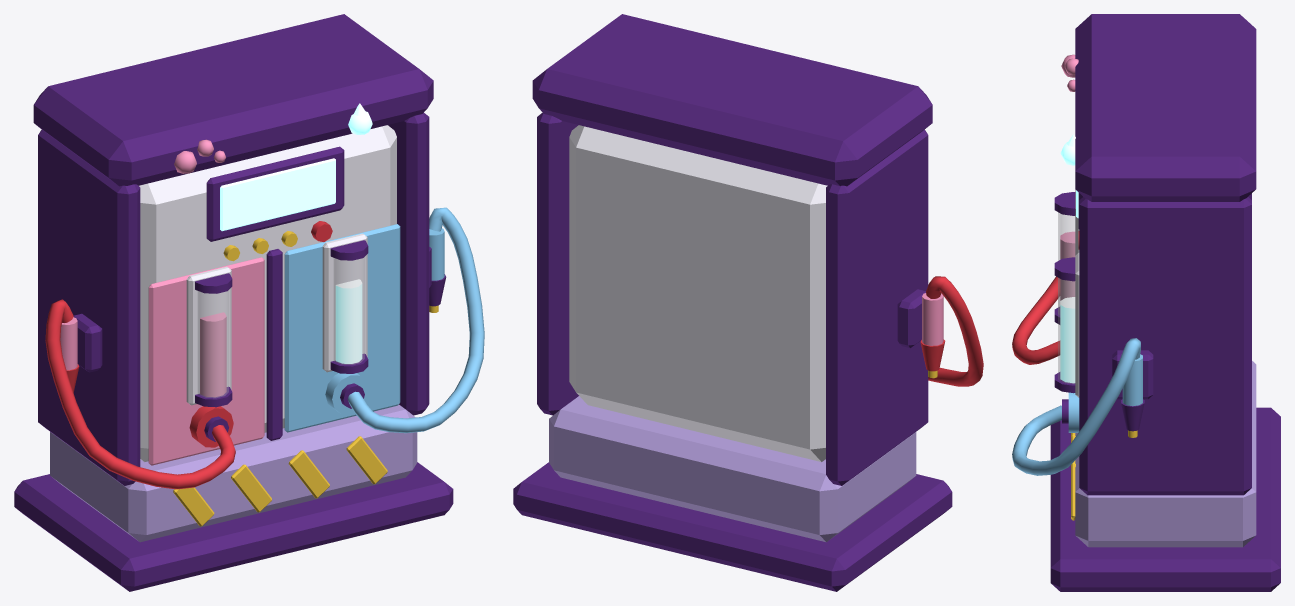
File: Oxygen_Water_Refill_Station.glb
3 renders of one model, left to right at view 1: azimuth 30°, elevation 25°; view 2: azimuth 150°, elevation 25°; view 3: azimuth 270°, elevation 25°, orthographic.
Visible parts, largest first — view 1: Oxygen_Water_Refill_Station; view 2: Oxygen_Water_Refill_Station; view 3: Oxygen_Water_Refill_Station.
Part boxes in pixels (x1,y1,x2,y2): Oxygen_Water_Refill_Station: [14, 14, 484, 591]; Oxygen_Water_Refill_Station: [513, 14, 983, 591]; Oxygen_Water_Refill_Station: [1012, 14, 1280, 591].
Bounding box in the file's own units: 2.92 × 2.89 × 1.63.
